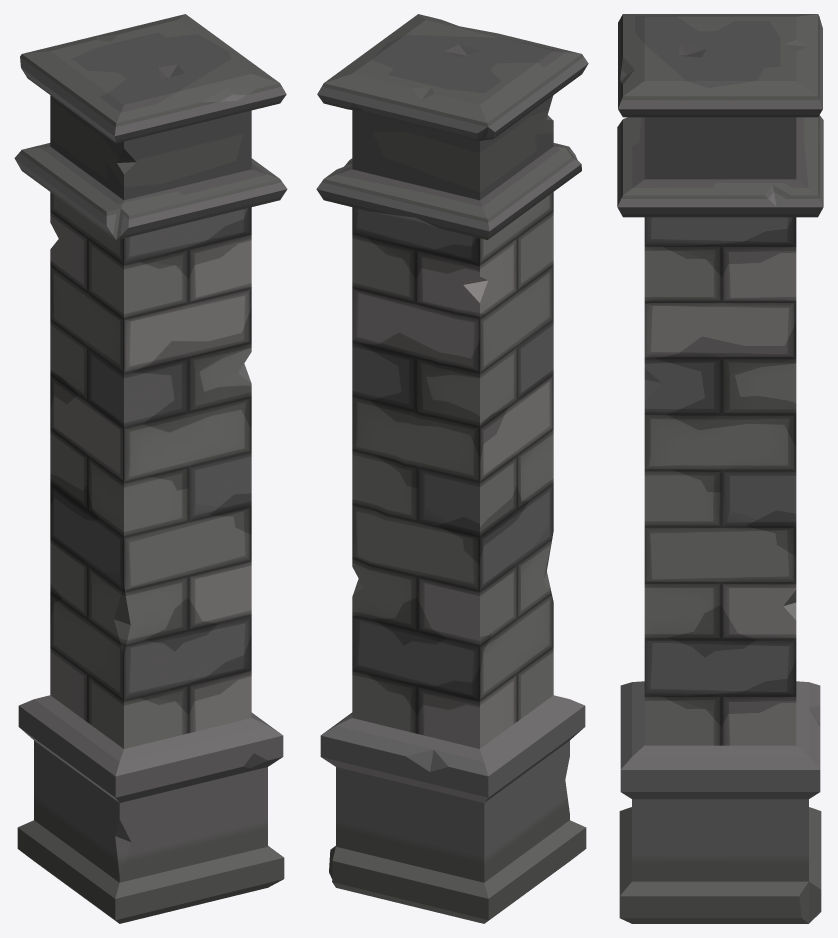
File: SM_Bld_Fence_Brick_Pillar_01.fbx
3 renders of one model, left to right at view 1: azimuth 30°, elevation 25°; view 2: azimuth 150°, elevation 25°; view 3: azimuth 270°, elevation 25°, orthographic. The views are drawn at different scales.
Parts seen in each view (by area): view 1: SM_Bld_Fence_Brick_Pillar_01; view 2: SM_Bld_Fence_Brick_Pillar_01; view 3: SM_Bld_Fence_Brick_Pillar_01.
Part boxes in pixels (bbox=[...]): SM_Bld_Fence_Brick_Pillar_01: bbox=[14, 14, 287, 923]; SM_Bld_Fence_Brick_Pillar_01: bbox=[316, 14, 588, 923]; SM_Bld_Fence_Brick_Pillar_01: bbox=[617, 14, 823, 923].
Bounding box in the file's own units: 72.65 × 326 × 72.65.
